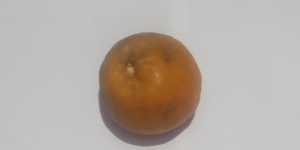BAD: (100, 33, 202, 137)
